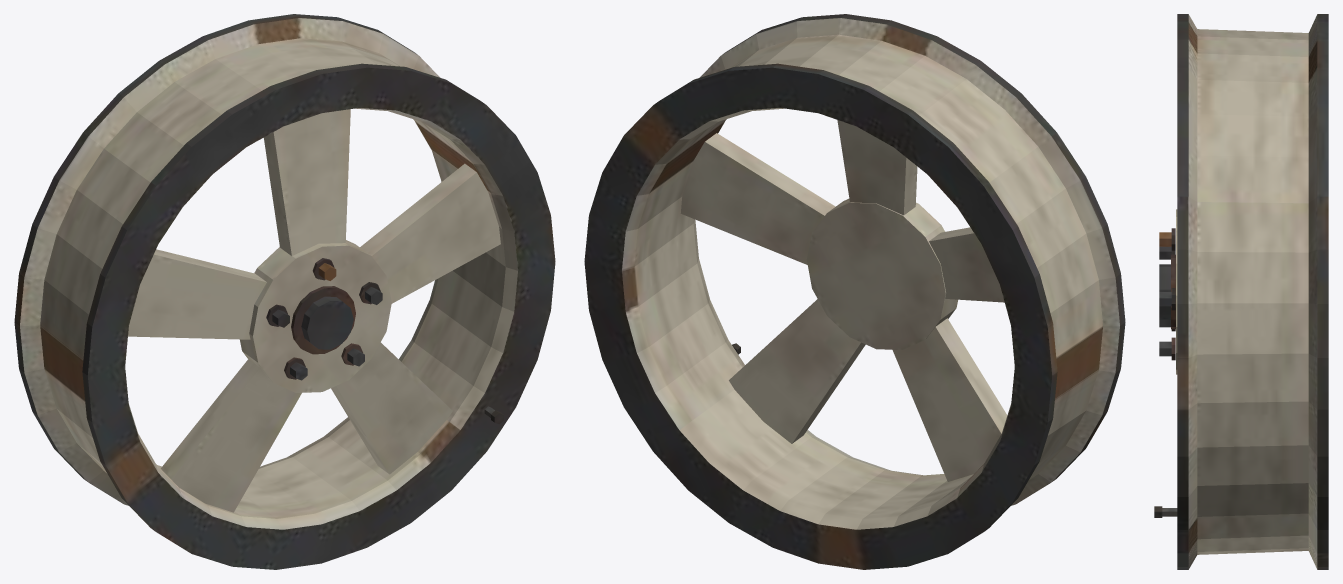
Rendered from JV16_car_wheel_rims_v1.glb.
3 renders of one model, left to right at view 1: azimuth 30°, elevation 25°; view 2: azimuth 150°, elevation 25°; view 3: azimuth 270°, elevation 25°, orthographic. The views are drawn at different scales.
Visible parts, largest first — view 1: Rolled rim barrel; view 2: Rolled rim barrel; view 3: Rolled rim barrel.
Part boxes in pixels (<box>): Rolled rim barrel: <box>14,14,555,569</box>; Rolled rim barrel: <box>584,14,1125,569</box>; Rolled rim barrel: <box>1154,14,1328,569</box>.
Size of the model in its own units: 0.7 by 0.7 by 0.219.
5 materials, 5 textured.
